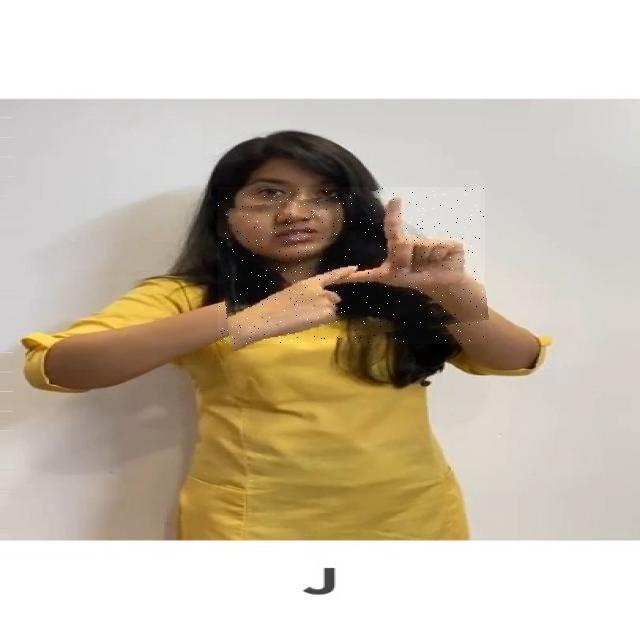J: (218, 187, 485, 344)
